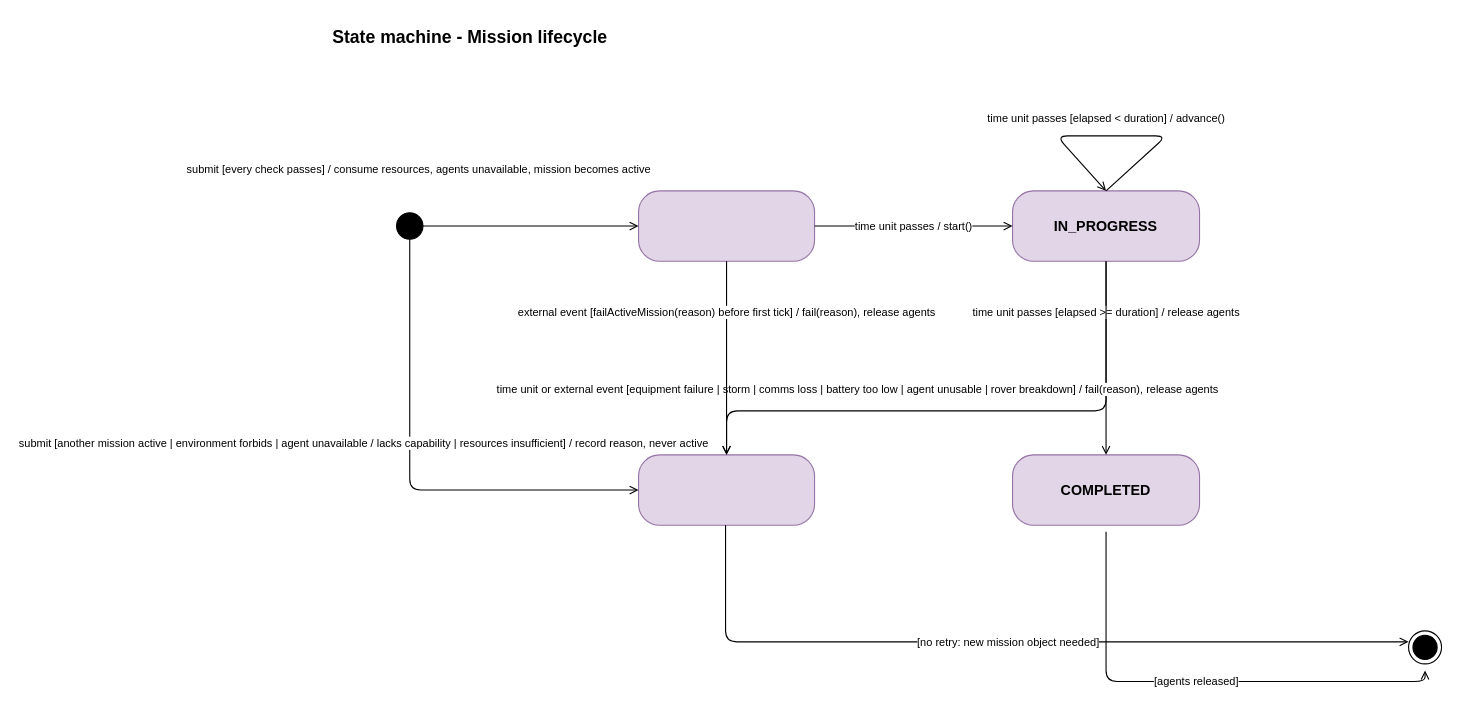
Image size: 1461x710. Some labels were removed from this diagram. Each missing label, with the box of its shape:
ASSIGNED: (637, 190, 815, 261)
FAILED: (637, 454, 815, 525)
